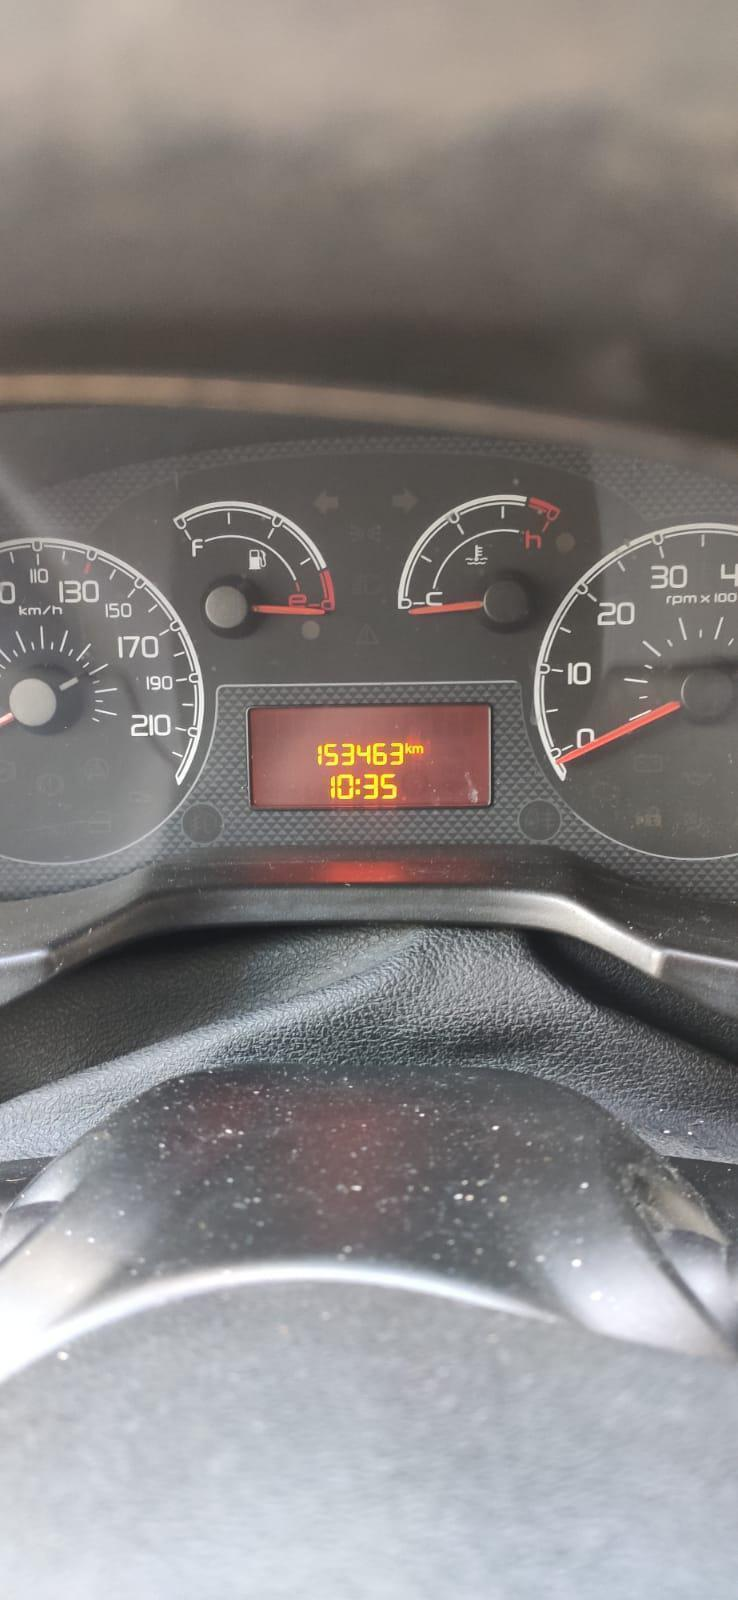1: (328, 774, 336, 800), (316, 743, 323, 765)
3: (363, 773, 379, 799), (339, 742, 354, 766), (389, 741, 403, 765)
4: (356, 743, 370, 765)
5: (379, 773, 397, 799), (323, 741, 338, 766)
6: (373, 741, 387, 766)
X: (353, 776, 361, 796), (404, 742, 413, 755), (413, 744, 424, 754)
odometer: (240, 697, 501, 811)
